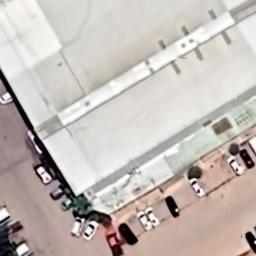SUV: (69, 214, 85, 238)
pickup: (104, 228, 124, 256)
sedan: (25, 126, 47, 157), (32, 162, 55, 186), (117, 222, 139, 246), (163, 194, 182, 220), (226, 156, 246, 178), (135, 209, 152, 232), (189, 176, 206, 198), (49, 182, 67, 202), (238, 148, 255, 169), (144, 206, 160, 228), (59, 194, 78, 212), (83, 220, 99, 240), (0, 89, 15, 106), (247, 135, 256, 158)
truck: (0, 205, 13, 228)
